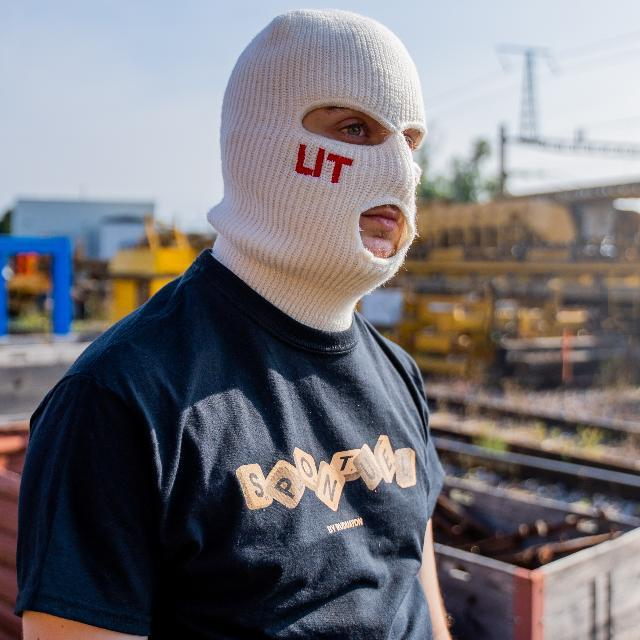criminal: (18, 9, 455, 640)
